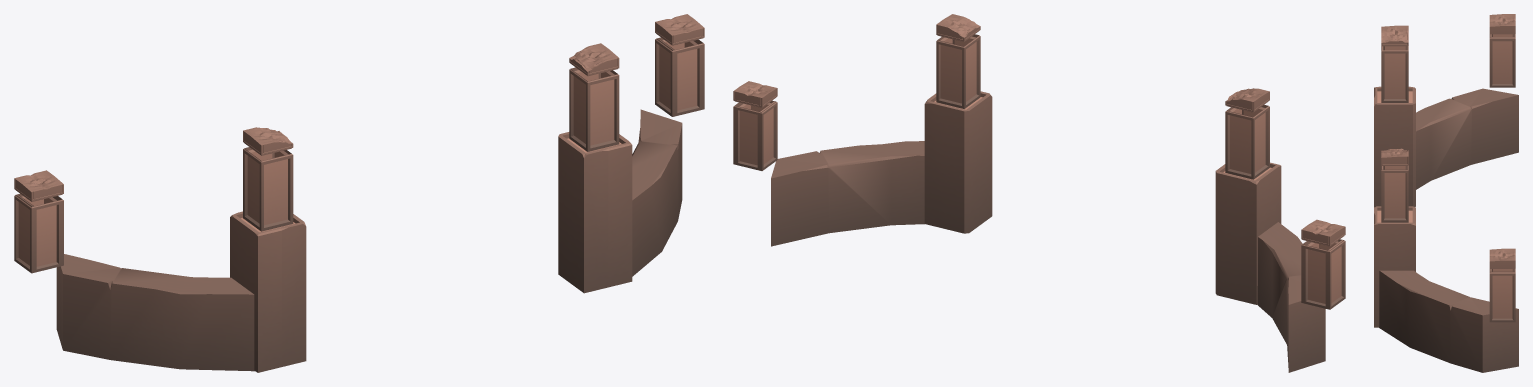
The model's file is obj_WalkBoss.fbx.
3 renders of one model, left to right at view 1: azimuth 30°, elevation 25°; view 2: azimuth 150°, elevation 25°; view 3: azimuth 270°, elevation 25°, orthographic. The views are drawn at different scales.
Parts seen in each view (by area): view 1: Cube.083; view 2: Cube.083; view 3: Cube.083.
Boxes of the visible parts, x1,y1,x2,y2 form: Cube.083: (14, 14, 704, 372); Cube.083: (733, 14, 1345, 372); Cube.083: (1374, 14, 1518, 372).
Size of the model in its own units: 881 by 280 by 219.
